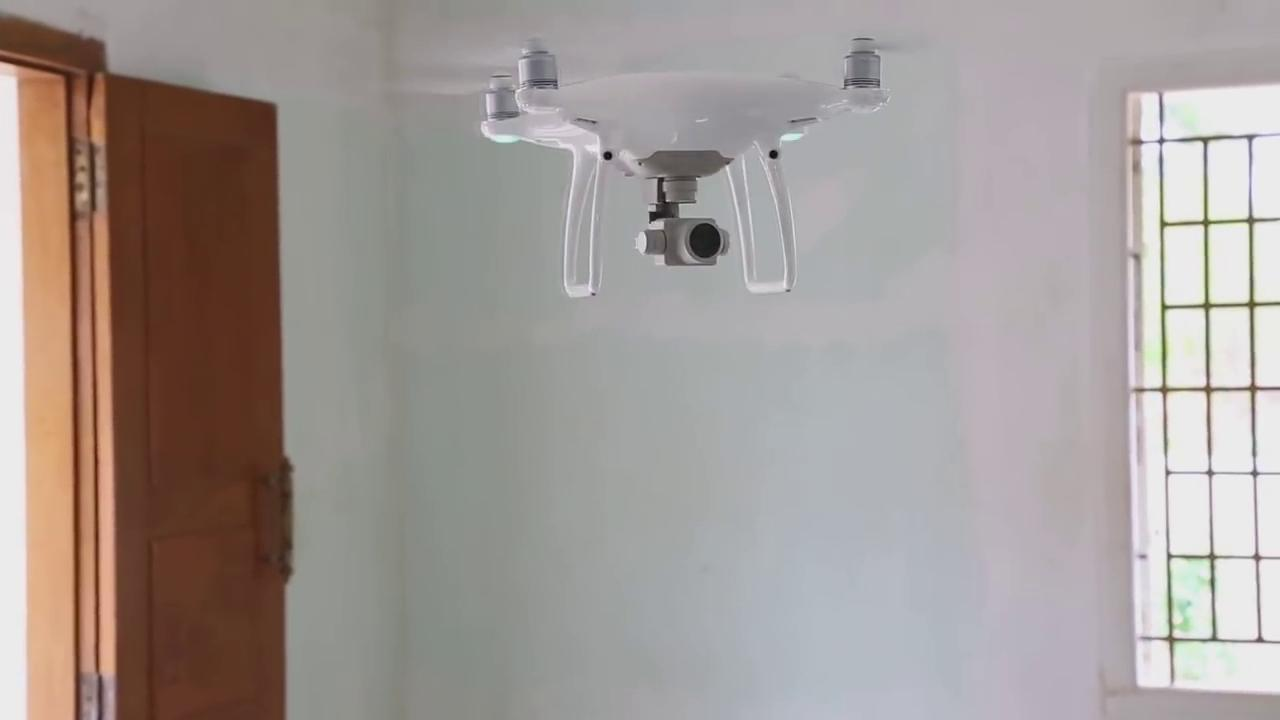drone: (371, 0, 989, 310)
